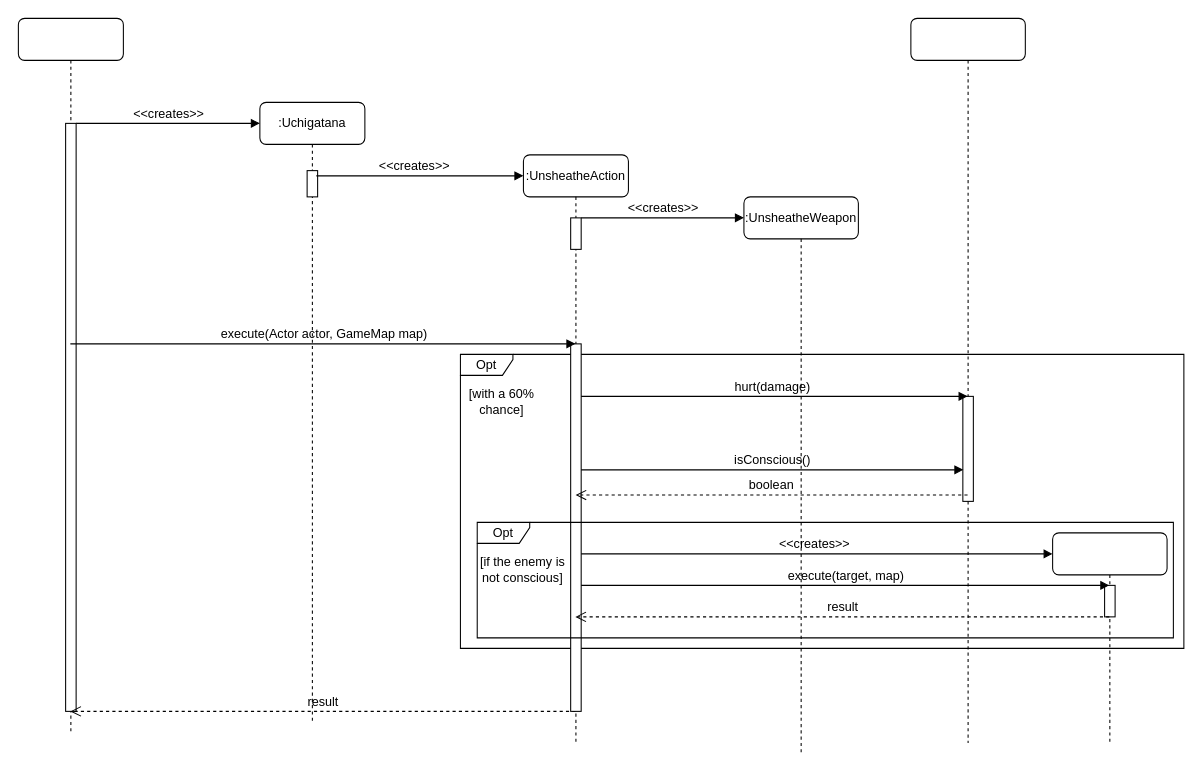
Some shapes in this 1202 by 772 pixel diagram are drawn without their labels. Here are the shapes that lost their labels. From the top down, the box of each, then its label:
(17, 17, 123, 732): :Player
(910, 17, 1025, 743): :Enemy
(1052, 532, 1167, 743): :DeathAction
